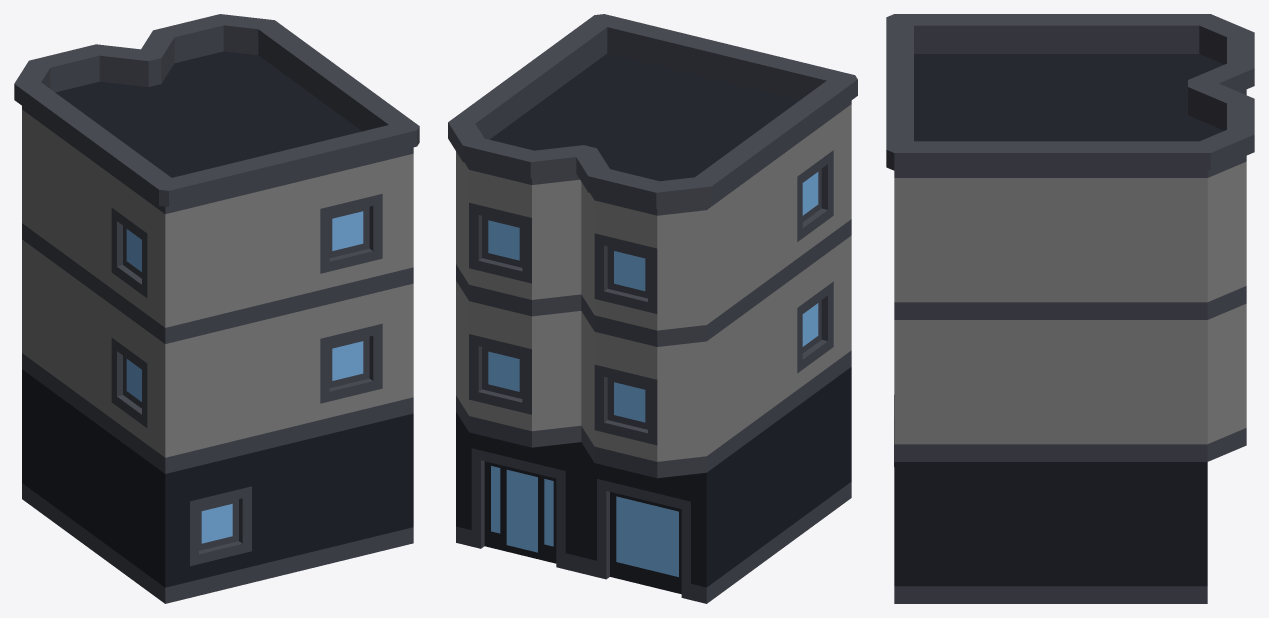
The model's file is variant_5.obj.
The picture shows the model from 3 angles, left to right: view 1: azimuth 30°, elevation 25°; view 2: azimuth 150°, elevation 25°; view 3: azimuth 270°, elevation 25°; orthographic projection. The views are drawn at different scales.
Visible parts, largest first — view 1: Building_copy, Window_copy; view 2: Building_copy; view 3: Building_copy.
Part boxes in pixels (x1,y1,x2,y2): Building_copy: [14, 14, 419, 603]; Window_copy: [190, 486, 251, 566]; Building_copy: [448, 14, 857, 603]; Building_copy: [886, 14, 1254, 603].
Size of the model in its own units: 0.84 by 1.28 by 0.94.
